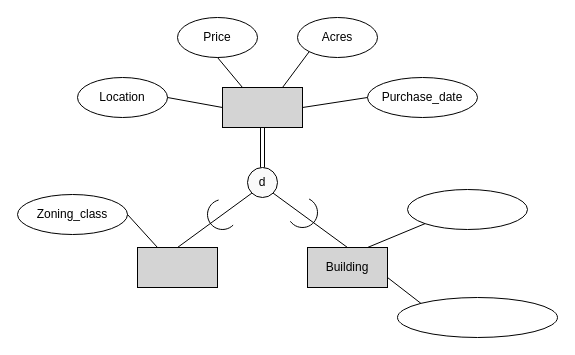
Some shapes in this 575 by 355 pixel diagram are drawn without their labels. Each missing label, with the centre of its shape:
Handicap_accessability: the point at 477,317
Lot: the point at 177,267
Property: the point at 262,107
Square_footage: the point at 467,209
